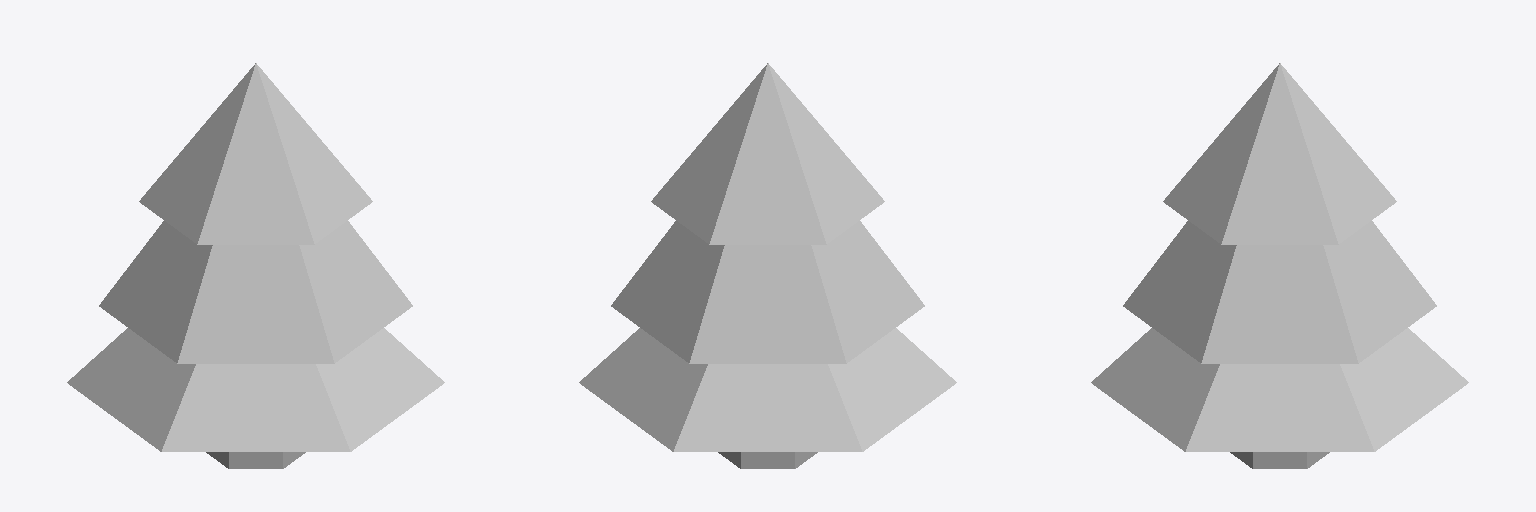
The model's file is Tree.obj.
3 views of the same model, side by side, from view 1: azimuth 30°, elevation 25°; view 2: azimuth 150°, elevation 25°; view 3: azimuth 270°, elevation 25° (orthographic).
Parts seen in each view (by area): view 1: Tree_Circle.029; view 2: Tree_Circle.029; view 3: Tree_Circle.029.
Boxes of the visible parts, x1,y1,x2,y2 form: Tree_Circle.029: [67, 63, 444, 468]; Tree_Circle.029: [579, 63, 956, 468]; Tree_Circle.029: [1091, 63, 1468, 468].
Size of the model in its own units: 6.03 by 7.83 by 6.96.